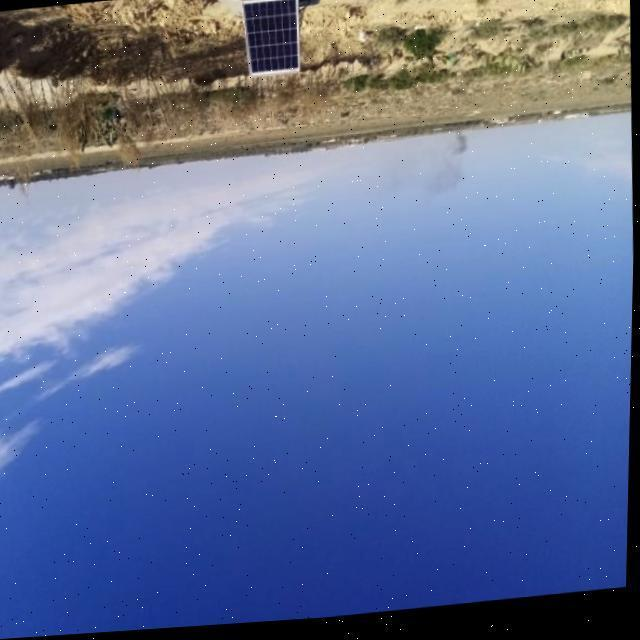Normal Solar Panel: (240, 0, 302, 81)
